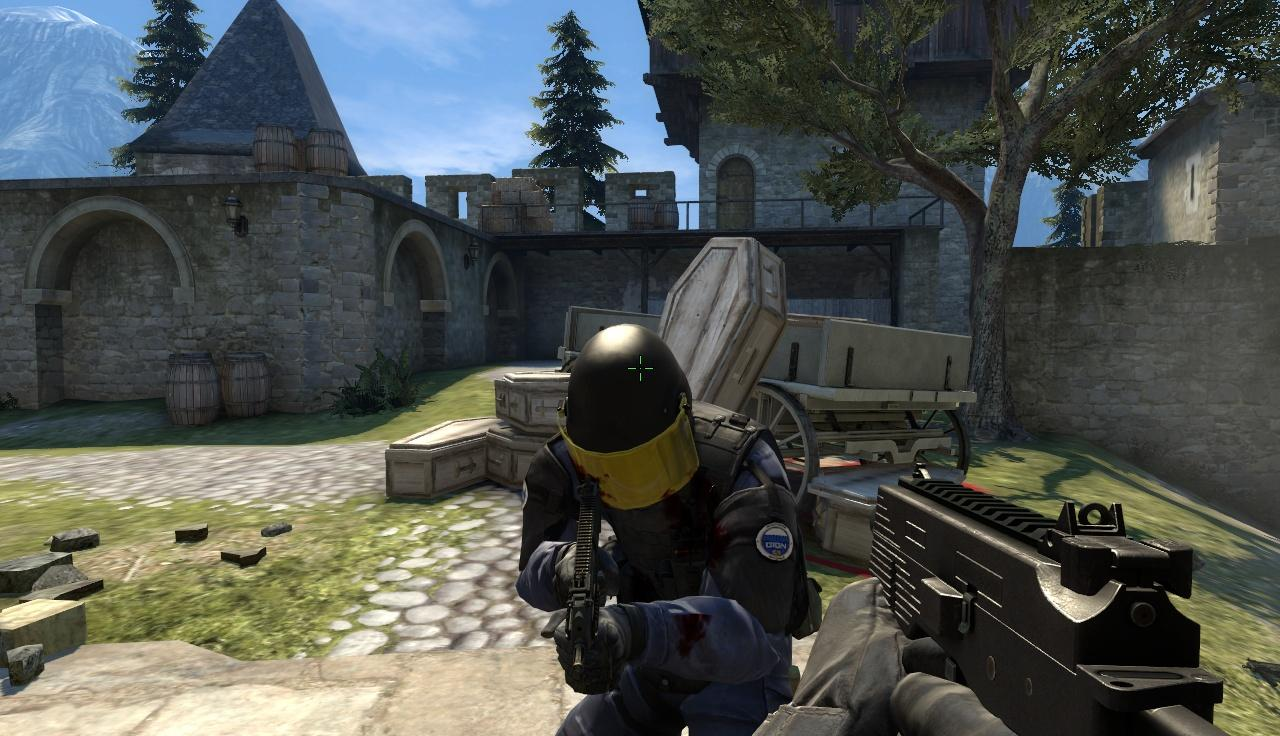ct: (516, 318, 805, 734)
cthead: (564, 324, 690, 511)
rifle: (859, 468, 1280, 736)
